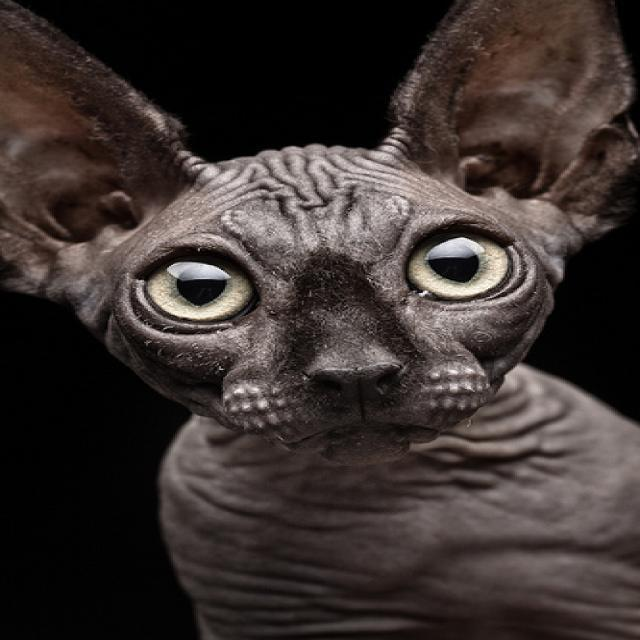Sphynx: (0, 0, 638, 465)
